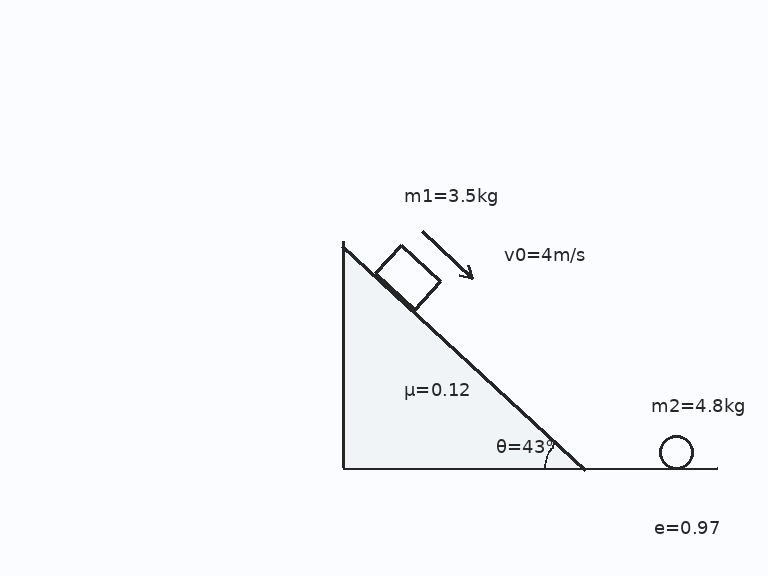ball: (657, 433, 695, 471)
block: (373, 242, 442, 311)
ramp: (341, 241, 587, 471)
